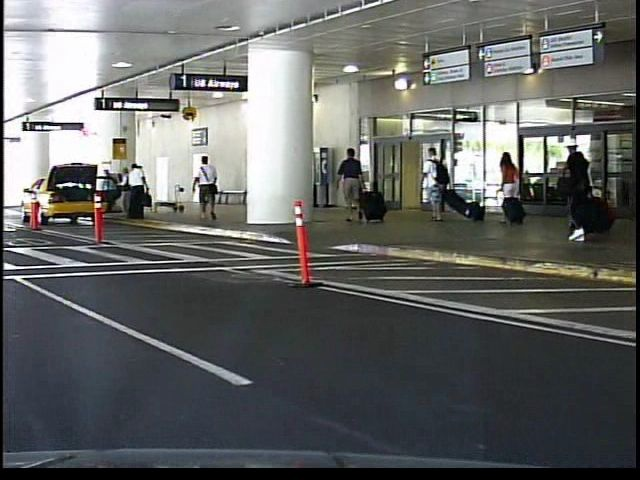person: (554, 133, 602, 245), (415, 142, 452, 222), (495, 145, 529, 231), (337, 143, 368, 226), (192, 153, 224, 227), (186, 164, 208, 211)
